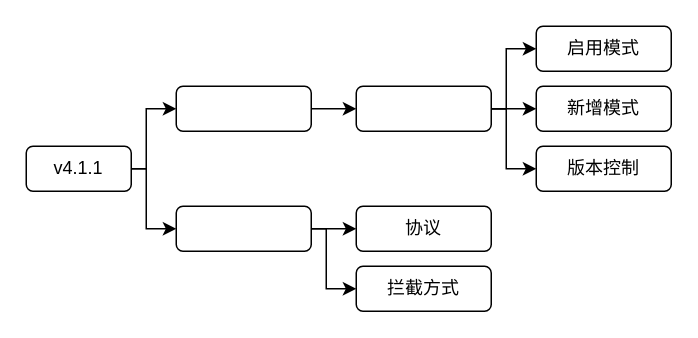
This 698x338 diagram has some shape labels left out. Here are the shapes that lost their labels. From the top down, the centre of each, then its label:
the point at 243,108: 资源管理
the point at 423,108: 节点模式配置
the point at 243,228: 游戏管理
